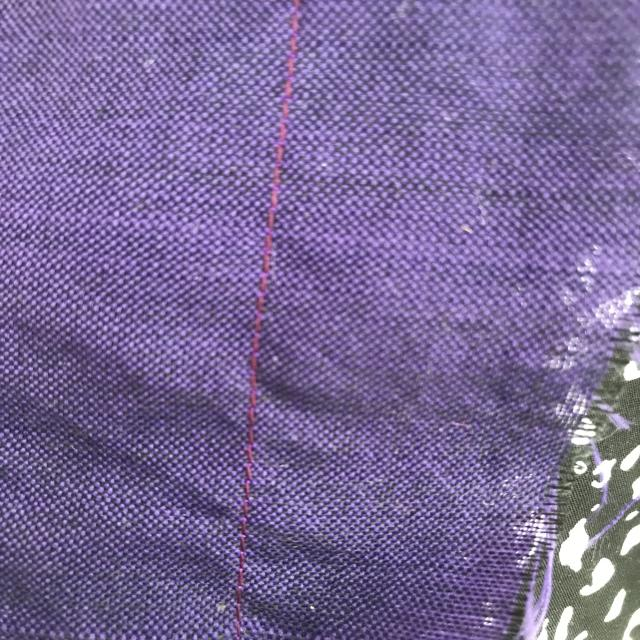good: (237, 398, 271, 548)
